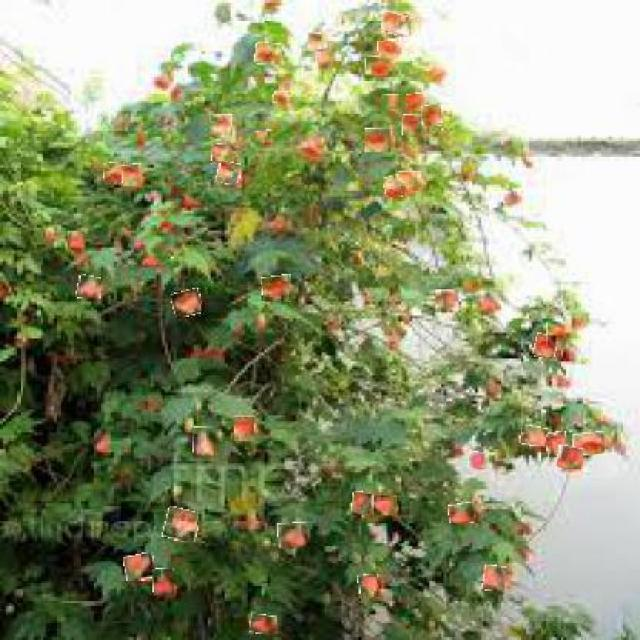Flower: (163, 508, 199, 542), (172, 289, 203, 317), (124, 554, 155, 581), (261, 275, 292, 302), (574, 432, 606, 456), (279, 523, 308, 549), (381, 13, 413, 36), (365, 128, 392, 154), (556, 445, 584, 470), (193, 427, 216, 456), (153, 569, 176, 598), (209, 114, 234, 140), (482, 566, 507, 592), (520, 426, 549, 448), (475, 292, 500, 317), (435, 289, 460, 314), (76, 275, 101, 299), (256, 43, 282, 66), (250, 615, 279, 635), (534, 335, 558, 359), (373, 495, 399, 517), (450, 502, 476, 524), (545, 433, 567, 459), (218, 162, 241, 186), (294, 136, 318, 159), (366, 56, 391, 78), (234, 416, 255, 442), (358, 575, 379, 601), (384, 175, 407, 198), (421, 104, 444, 127), (403, 114, 425, 137), (352, 492, 373, 516), (546, 323, 566, 348), (123, 164, 143, 188), (378, 39, 399, 61), (105, 163, 126, 183), (399, 171, 423, 188), (308, 33, 329, 52), (212, 145, 234, 163), (468, 452, 487, 470), (316, 49, 333, 69), (68, 231, 86, 249), (406, 93, 425, 109), (273, 92, 293, 106), (385, 94, 400, 111), (504, 191, 521, 205), (255, 130, 274, 142)
